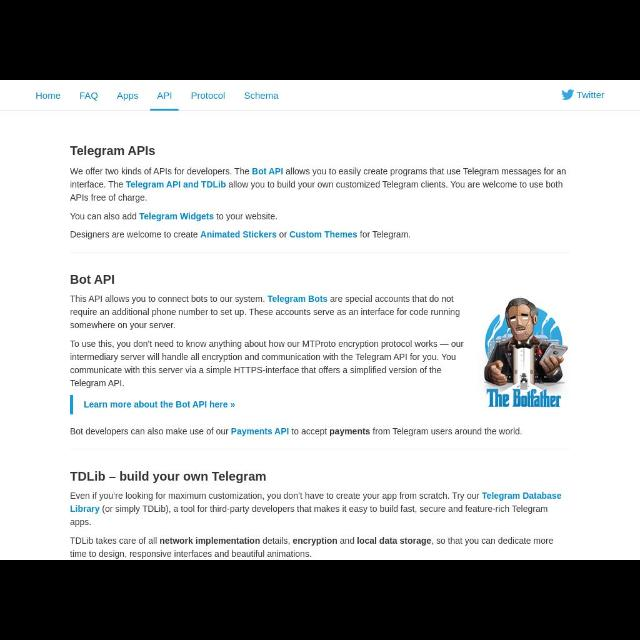icon: (560, 86, 576, 102)
image: (486, 293, 574, 412)
link: (82, 398, 238, 414)
multitab: (1, 80, 624, 112)
text: (70, 339, 467, 376), (70, 492, 562, 516), (66, 168, 568, 190), (66, 534, 558, 556), (68, 294, 460, 318), (71, 427, 521, 437), (68, 471, 266, 484), (71, 211, 275, 221), (72, 232, 406, 238), (70, 142, 156, 160), (68, 322, 170, 333), (66, 193, 148, 203), (70, 378, 124, 388), (245, 90, 281, 102), (72, 276, 115, 286), (34, 90, 62, 102), (580, 89, 606, 101), (188, 92, 226, 100), (77, 89, 99, 101), (66, 518, 92, 528), (156, 91, 172, 101), (115, 94, 137, 100)
